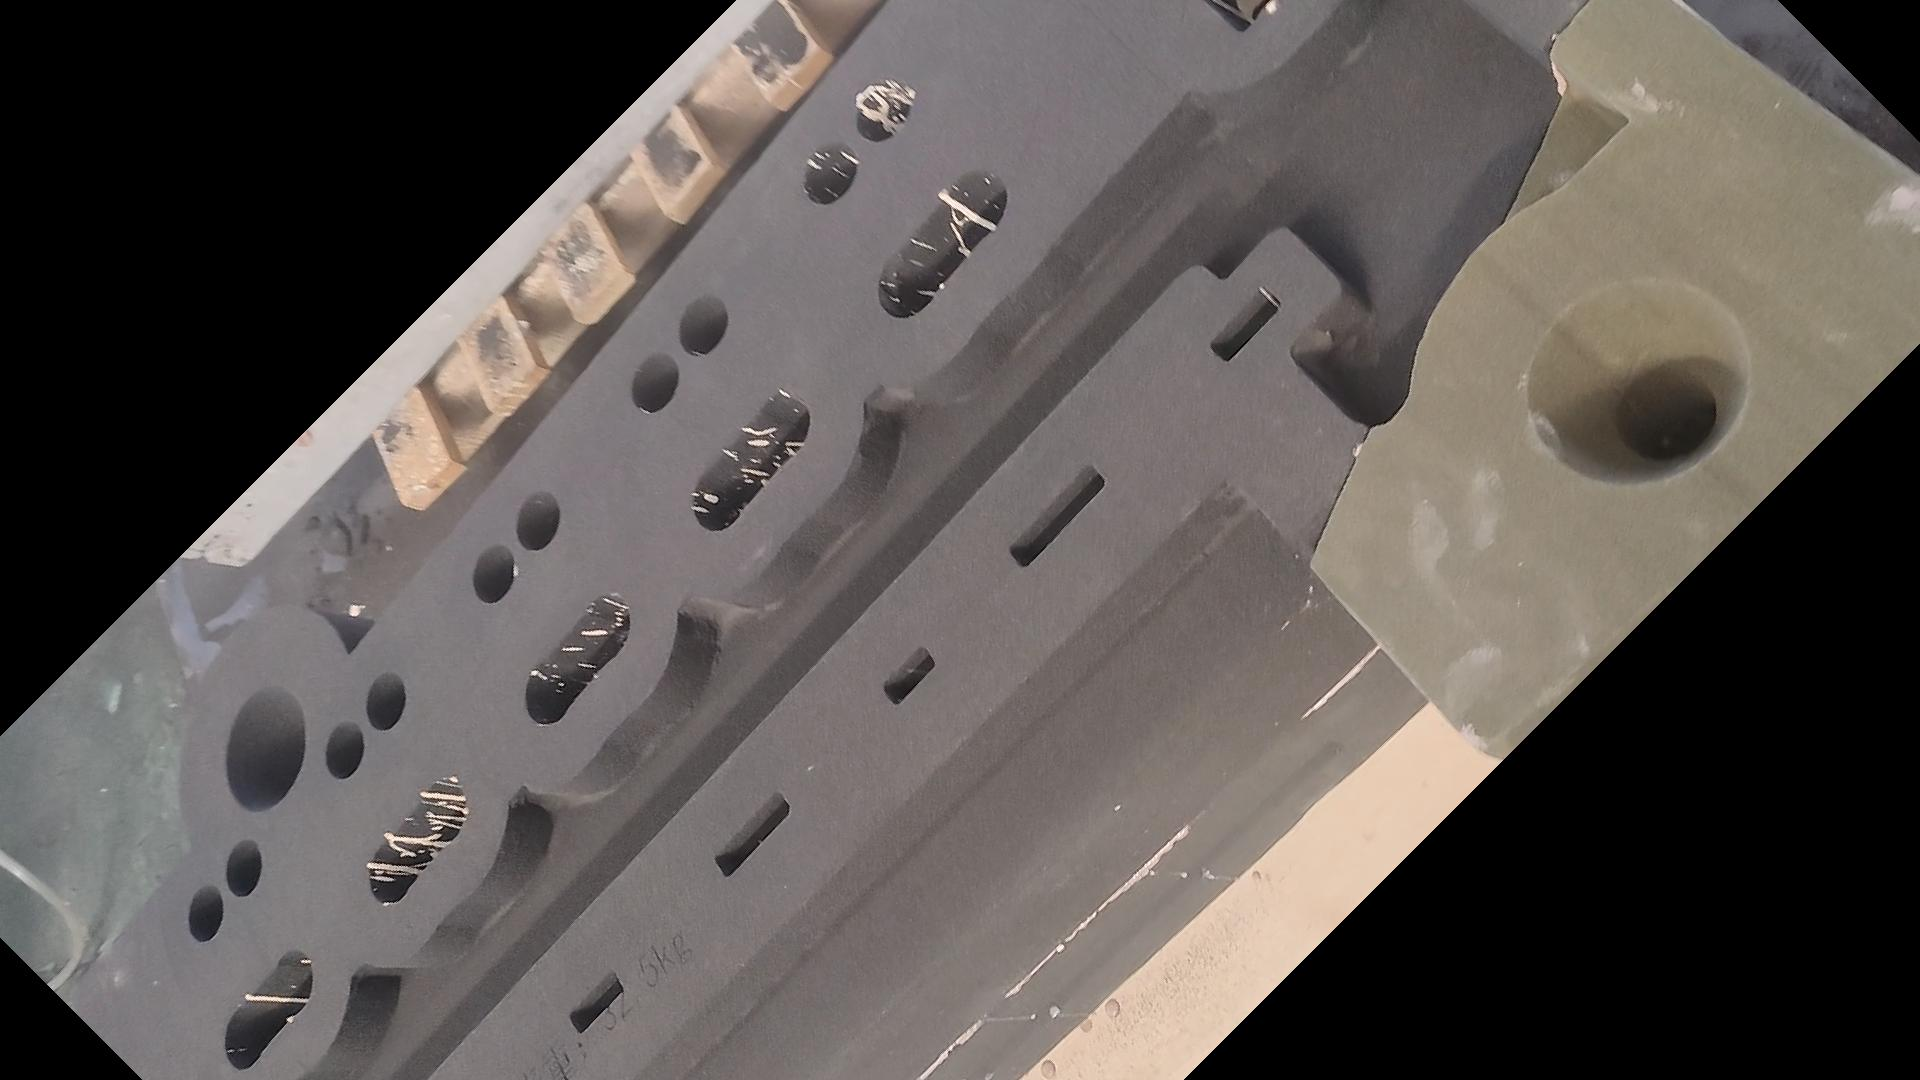pouring hole: (1524, 278, 1749, 487), (225, 684, 306, 812)
